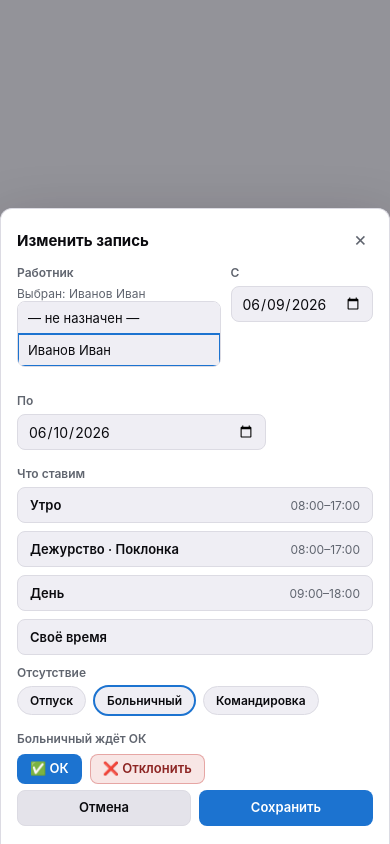
Test: AddEntryPanel — больничный, ждущий ОК › отказ сервера — текстом в панели
Click the button "✅ ОК": (49, 769) [17, 754, 82, 784]
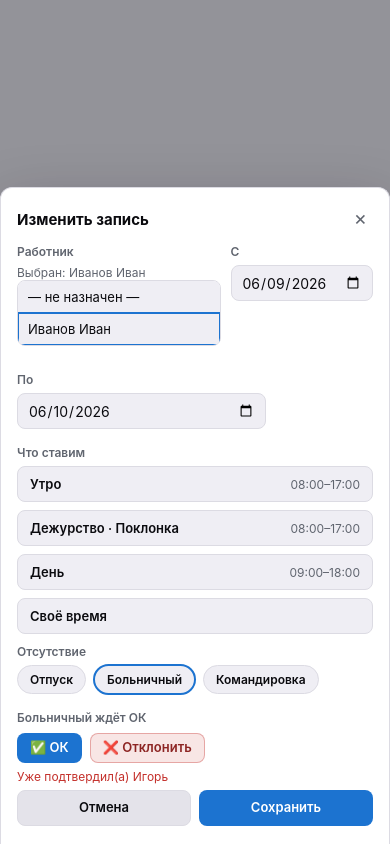
Result: the text with class "error-text" reads "Уже подтвердил(а) Игорь" at [17, 769, 168, 784]
